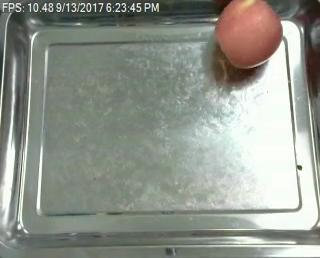apple: (215, 0, 283, 69)
